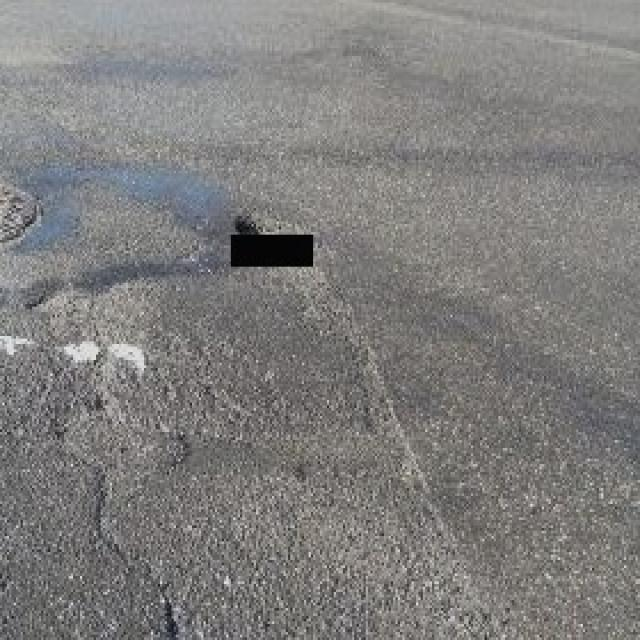road-pothole: (20, 268, 169, 623)
